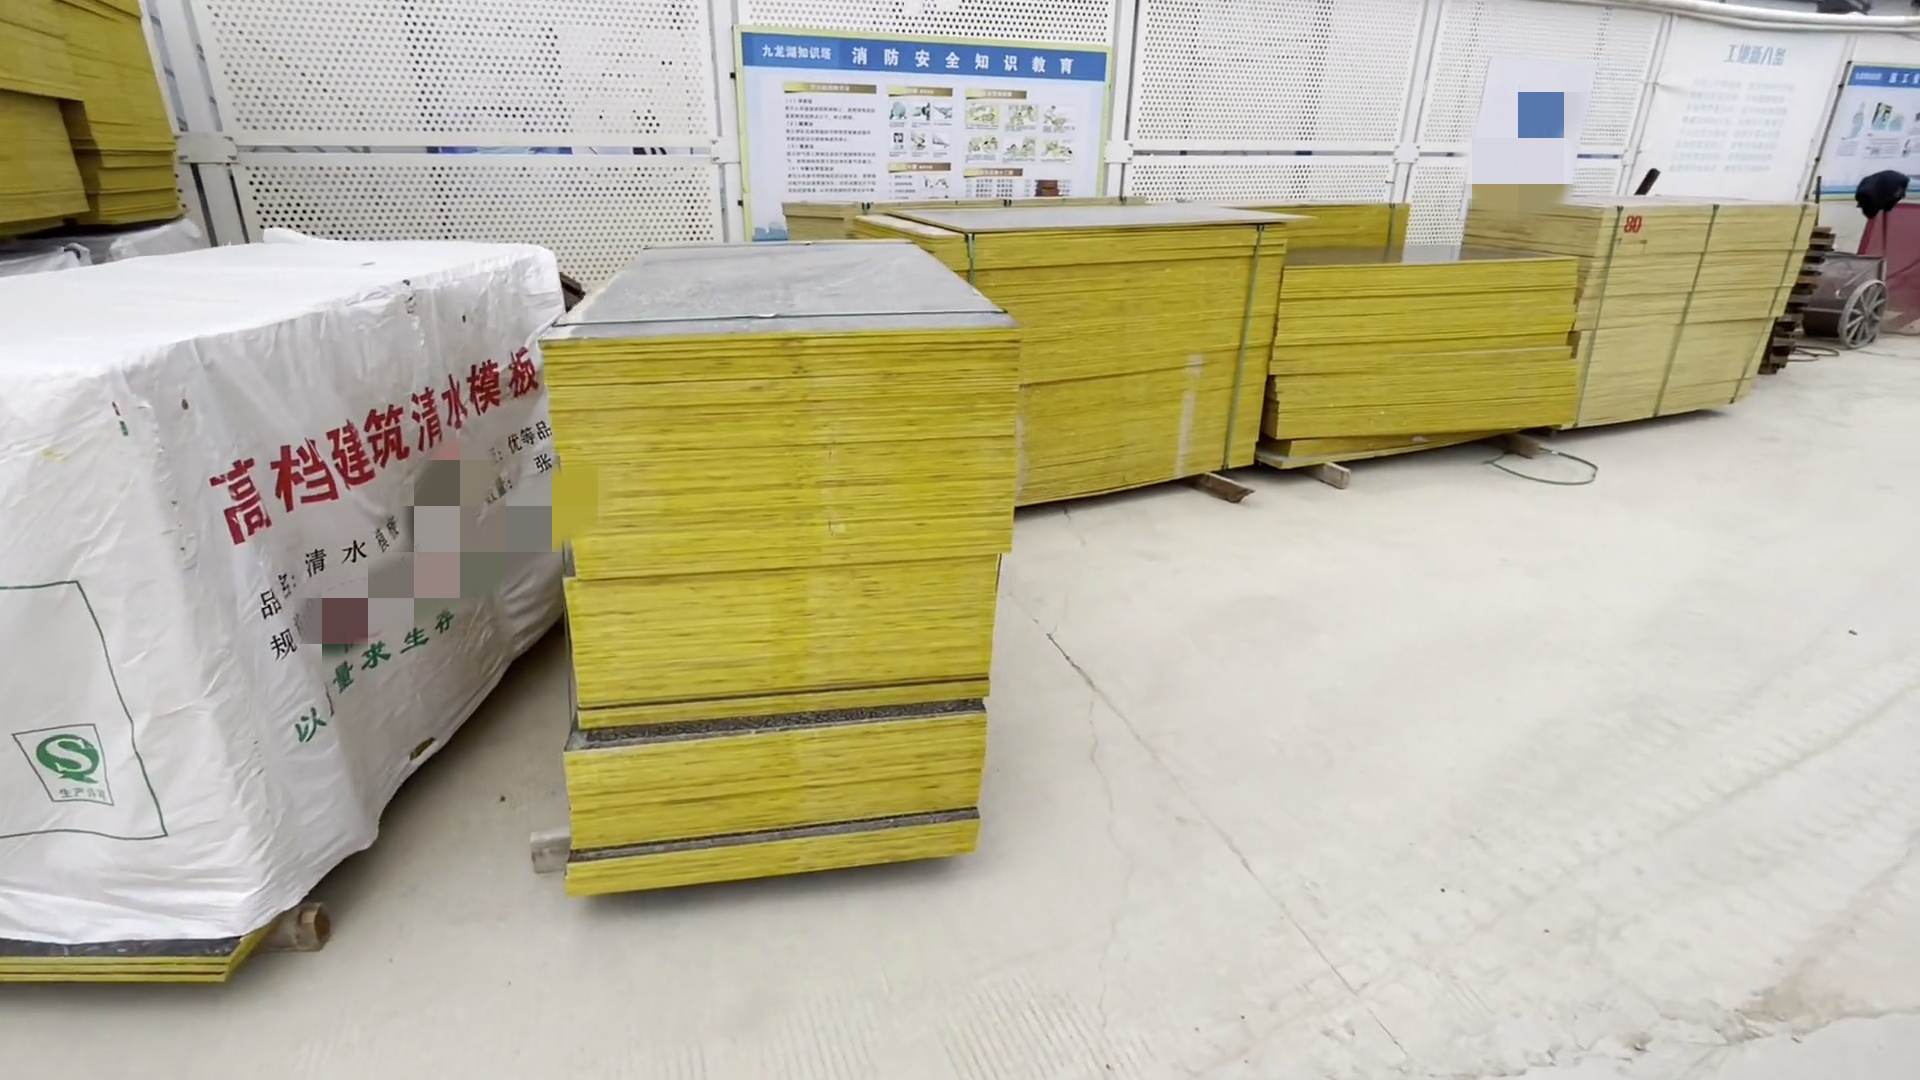board: (534, 243, 1048, 905), (1060, 203, 1841, 485)
handcart: (1803, 179, 1891, 377)
